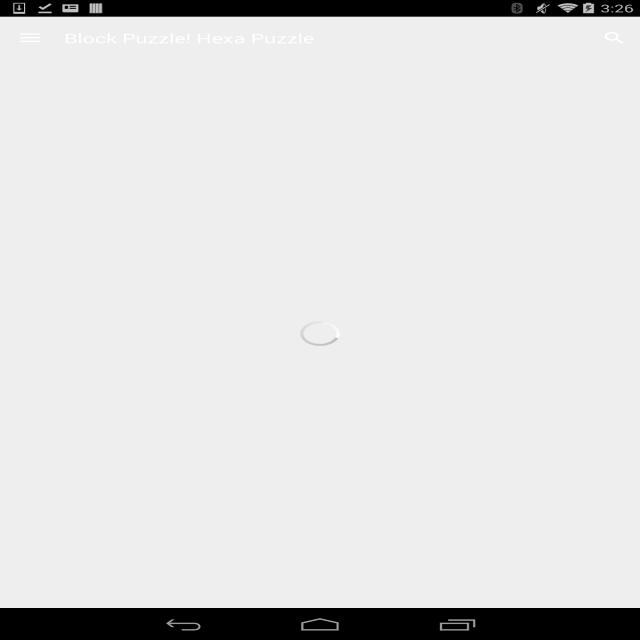Button: (222, 406, 316, 472), (324, 406, 418, 472), (426, 406, 520, 472), (454, 352, 614, 376)
ImageButton: (0, 17, 60, 59)
ImageView: (0, 59, 640, 254), (0, 571, 409, 640), (26, 270, 196, 377), (414, 571, 640, 640), (332, 406, 411, 455), (434, 406, 513, 455), (60, 30, 224, 46), (307, 518, 333, 534), (589, 270, 614, 286), (222, 312, 239, 323), (276, 464, 285, 469)
TextView: (0, 490, 640, 519), (0, 540, 640, 558), (222, 270, 589, 295), (589, 22, 640, 54), (324, 455, 418, 472), (426, 455, 520, 472), (120, 455, 213, 472), (222, 295, 328, 309), (526, 380, 614, 392), (245, 311, 316, 325), (250, 415, 288, 437), (133, 443, 200, 452), (152, 420, 181, 440), (252, 455, 273, 472)
